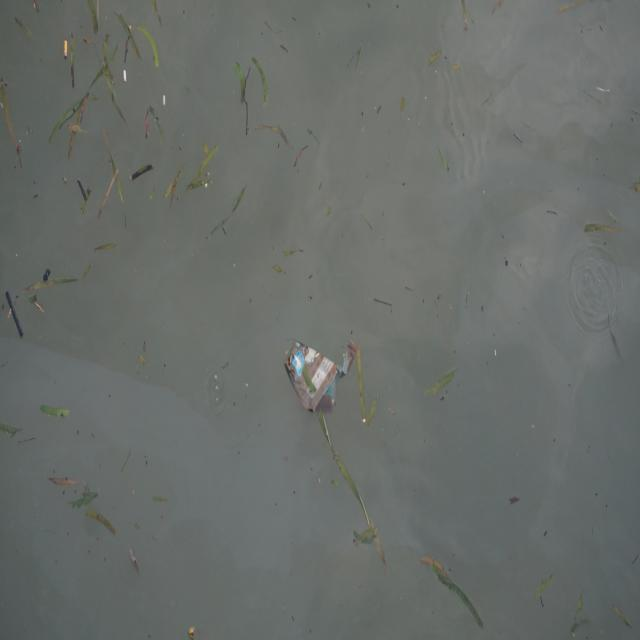Bungkus Makanan: (284, 336, 360, 424)
